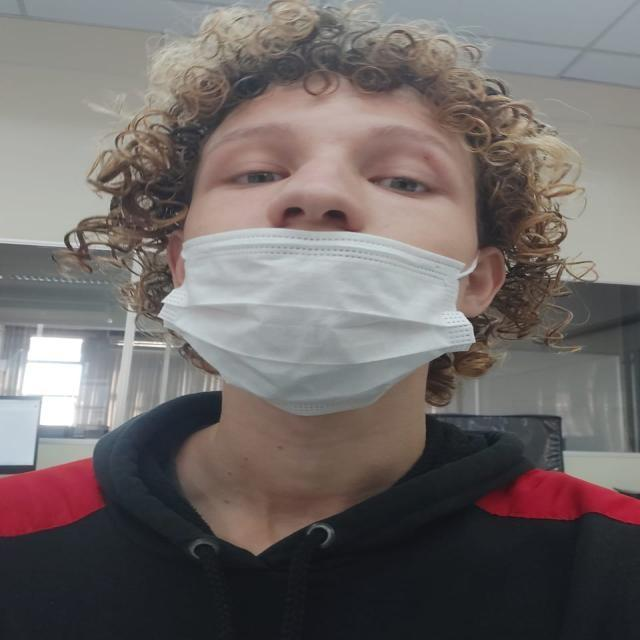hairnet: (181, 100, 464, 375)
